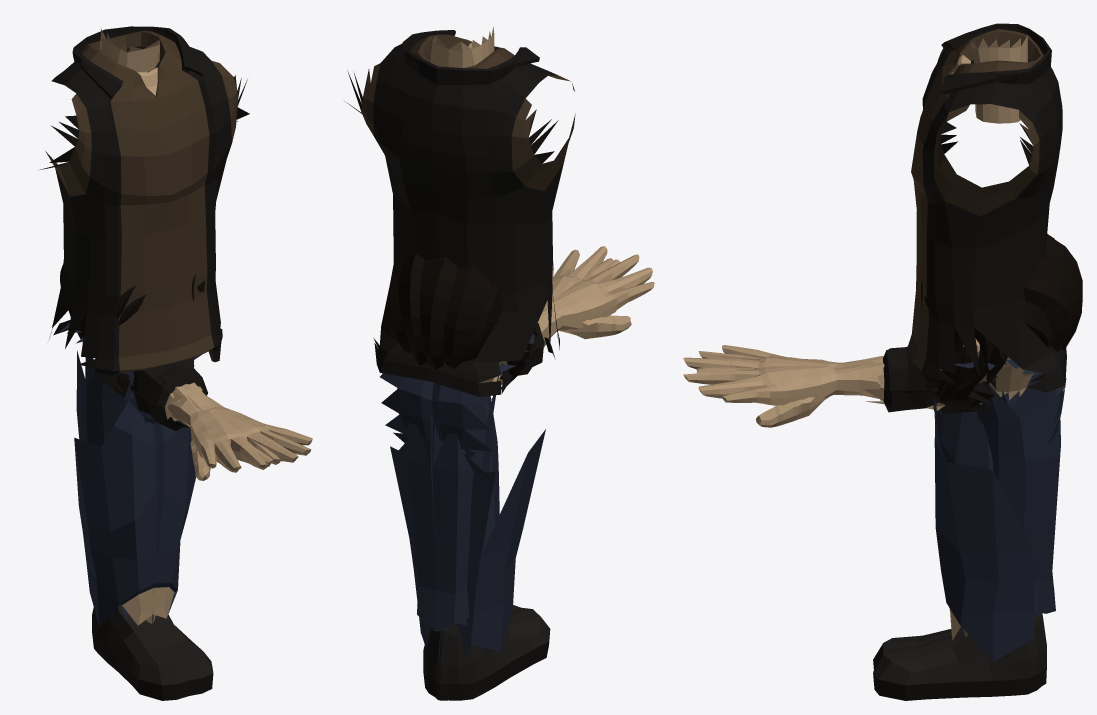
File: bandit_leather.glb
The picture shows the model from 3 angles, left to right: view 1: azimuth 30°, elevation 25°; view 2: azimuth 150°, elevation 25°; view 3: azimuth 270°, elevation 25°; orthographic projection. The views are drawn at different scales.
Parts seen in each view (by area): view 1: torso, thighL, thighR, shinR, shinL, foreR, foreL, upperR, upperL, head; view 2: torso, shinR, head, shinL, thighL, foreR, foreL, thighR; view 3: torso, thighR, shinR, shinL, head, foreL, foreR, thighL, upperR, upperL.
Boxes of the visible parts, x1,y1,x2,y2 form: torso: [40, 26, 249, 425]; thighL: [74, 371, 157, 626]; thighR: [110, 354, 202, 623]; shinR: [85, 357, 189, 700]; shinL: [76, 350, 213, 695]; foreR: [167, 386, 282, 472]; foreL: [172, 382, 312, 480]; upperR: [99, 363, 202, 427]; upperL: [110, 358, 207, 430]; head: [60, 259, 204, 397]; torso: [346, 26, 575, 482]; shinR: [407, 404, 550, 700]; head: [389, 254, 537, 382]; shinL: [423, 376, 520, 700]; thighL: [456, 404, 545, 658]; foreR: [493, 254, 654, 384]; foreL: [499, 246, 631, 384]; thighR: [390, 388, 499, 649]; torso: [908, 23, 1066, 446]; thighR: [934, 409, 1034, 661]; shinR: [873, 384, 1060, 685]; shinL: [873, 373, 1058, 700]; head: [921, 234, 1082, 403]; foreL: [683, 359, 981, 405]; foreR: [683, 345, 944, 427]; thighL: [934, 373, 1046, 652]; upperR: [864, 346, 997, 413]; upperL: [873, 347, 995, 412].
Size of the model in its own units: 0.3751 by 1.11 by 0.6081.
